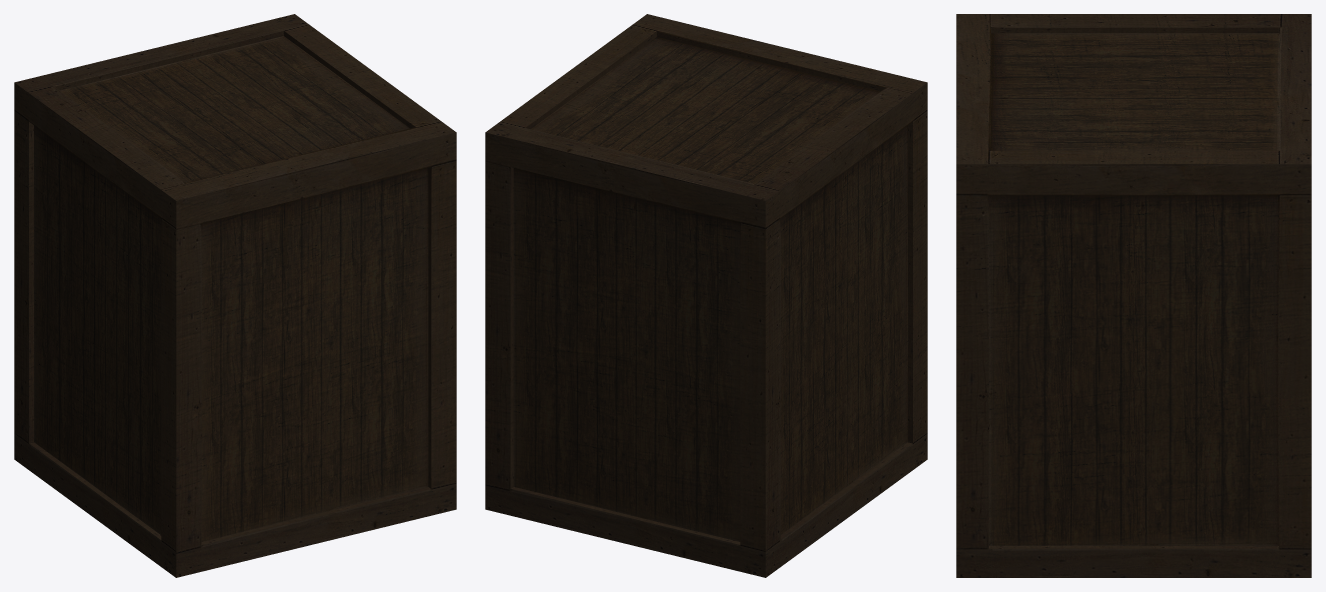
File: wooden_crate_hx_2_1.obj
3 views of the same model, side by side, from view 1: azimuth 30°, elevation 25°; view 2: azimuth 150°, elevation 25°; view 3: azimuth 270°, elevation 25° (orthographic). The views are drawn at different scales.
Parts seen in each view (by area): view 1: wooden_crate_hx_2_1; view 2: wooden_crate_hx_2_1; view 3: wooden_crate_hx_2_1.
Part boxes in pixels (x1,y1,x2,y2): wooden_crate_hx_2_1: (14,14,456,577); wooden_crate_hx_2_1: (485,14,927,577); wooden_crate_hx_2_1: (956,14,1311,577).
Size of the model in its own units: 1.4 by 1.8 by 1.4.
